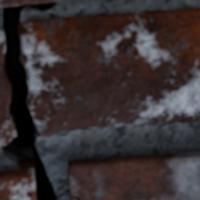brick: (69, 152, 199, 199), (0, 170, 35, 199), (0, 0, 60, 6)
broken_brick: (20, 7, 199, 138), (0, 28, 15, 145)
crack: (0, 1, 59, 199), (71, 195, 80, 199)
